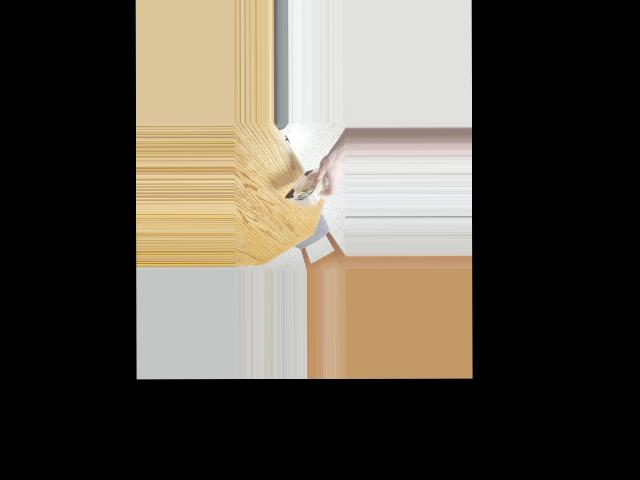cheese: (285, 156, 326, 214)
